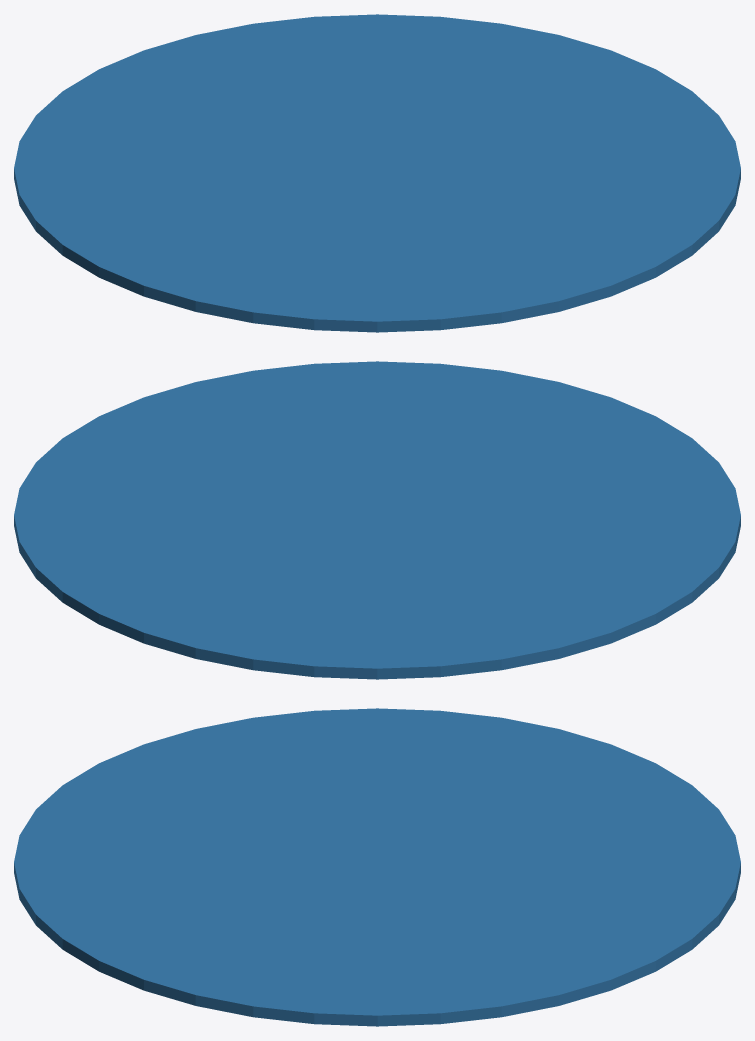
The model's file is scendance-plan-circle.glb.
3 renders of one model, top to bottom at view 1: azimuth 30°, elevation 25°; view 2: azimuth 150°, elevation 25°; view 3: azimuth 270°, elevation 25°, orthographic.
Bounding box in the file's own units: 2 × 0.033 × 2.
